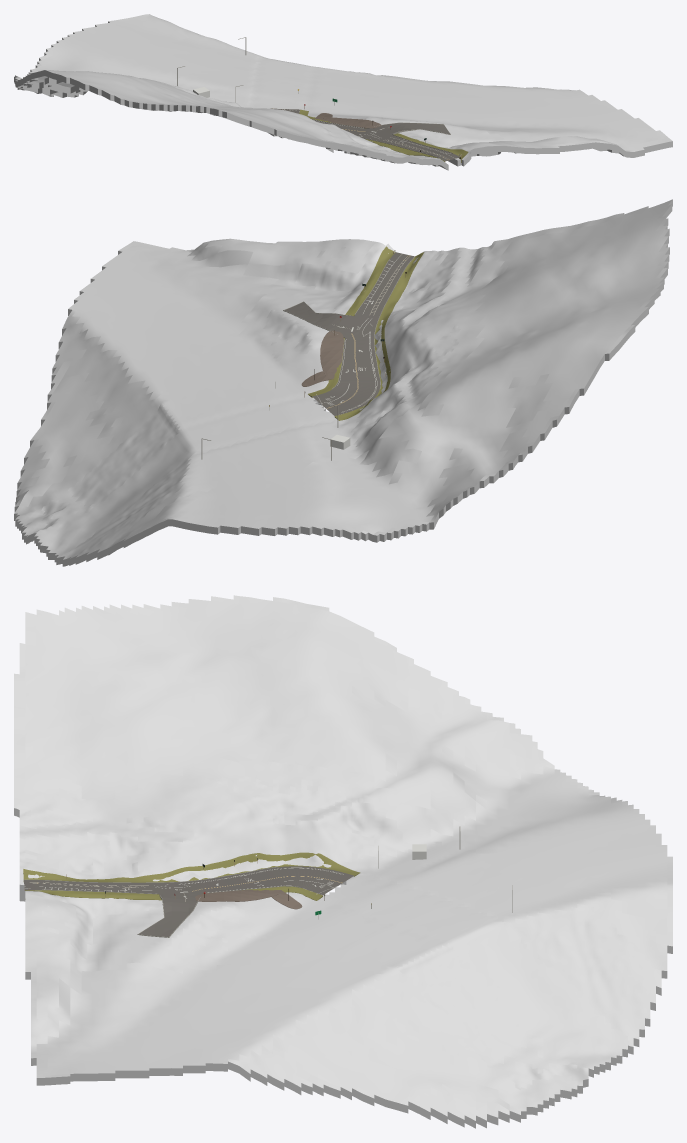
File: conz_7.glb
The picture shows the model from 3 angles, top to bottom: view 1: azimuth 30°, elevation 25°; view 2: azimuth 150°, elevation 25°; view 3: azimuth 270°, elevation 25°; orthographic projection. The views are drawn at different scales.
Parts seen in each view (by area): view 1: terrain7, road7, lot7_4, lot_gravel_ax7, verge7R, verge7L; view 2: terrain7, road7, verge7L, lot7_4, verge7R, lot_gravel_ax7; view 3: terrain7, road7, verge7L, lot7_4, verge7R, lot_gravel_ax7.
Part boxes in pixels (x1,y1,x2,y2): terrain7: (14, 14, 672, 170); road7: (270, 108, 460, 161); lot7_4: (365, 123, 449, 134); lot_gravel_ax7: (315, 117, 381, 128); verge7R: (299, 109, 468, 162); verge7L: (365, 139, 445, 161); terrain7: (14, 199, 672, 566); road7: (312, 252, 414, 415); verge7L: (334, 252, 424, 420); lot7_4: (284, 302, 359, 337); verge7R: (308, 246, 395, 397); lot_gravel_ax7: (320, 330, 343, 379); terrain7: (14, 595, 672, 1128); road7: (24, 866, 353, 895); verge7L: (23, 852, 360, 882); lot7_4: (139, 888, 203, 936); verge7R: (25, 886, 322, 900); lot_gravel_ax7: (195, 890, 282, 901).
Size of the model in its own units: 272 by 111 by 234.
